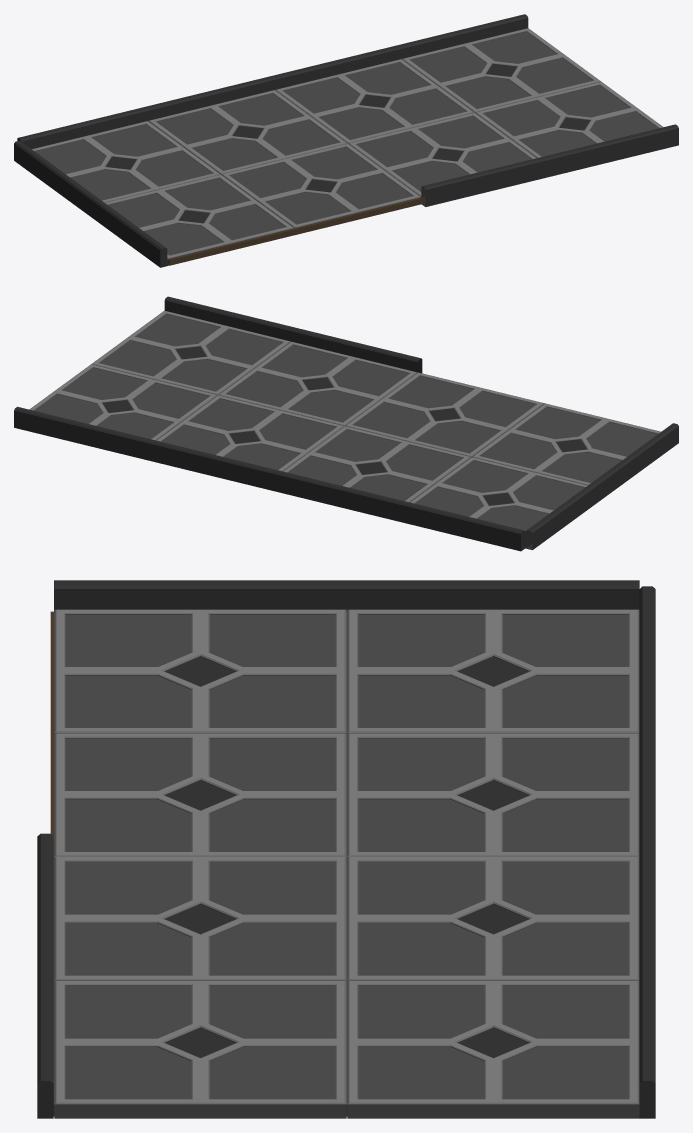
The model's file is Stone_Path_Corner_Variant2.fbx.
3 renders of one model, top to bottom at view 1: azimuth 30°, elevation 25°; view 2: azimuth 150°, elevation 25°; view 3: azimuth 270°, elevation 25°, orthographic. The views are drawn at different scales.
Visible parts, largest first — view 1: Stone_Path_Corner_Variant2; view 2: Stone_Path_Corner_Variant2; view 3: Stone_Path_Corner_Variant2.
Boxes of the visible parts, x1,y1,x2,y2 form: Stone_Path_Corner_Variant2: (14, 14, 678, 267); Stone_Path_Corner_Variant2: (14, 296, 678, 551); Stone_Path_Corner_Variant2: (37, 580, 655, 1118).
Size of the model in its own units: 483 by 16.76 by 251.
